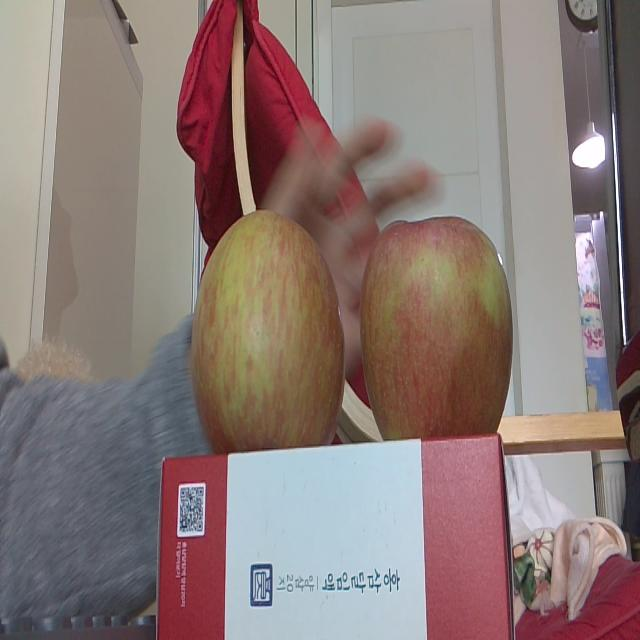apple: (195, 210, 344, 447), (362, 217, 512, 440)
